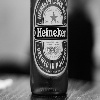beer: (30, 1, 72, 97)
